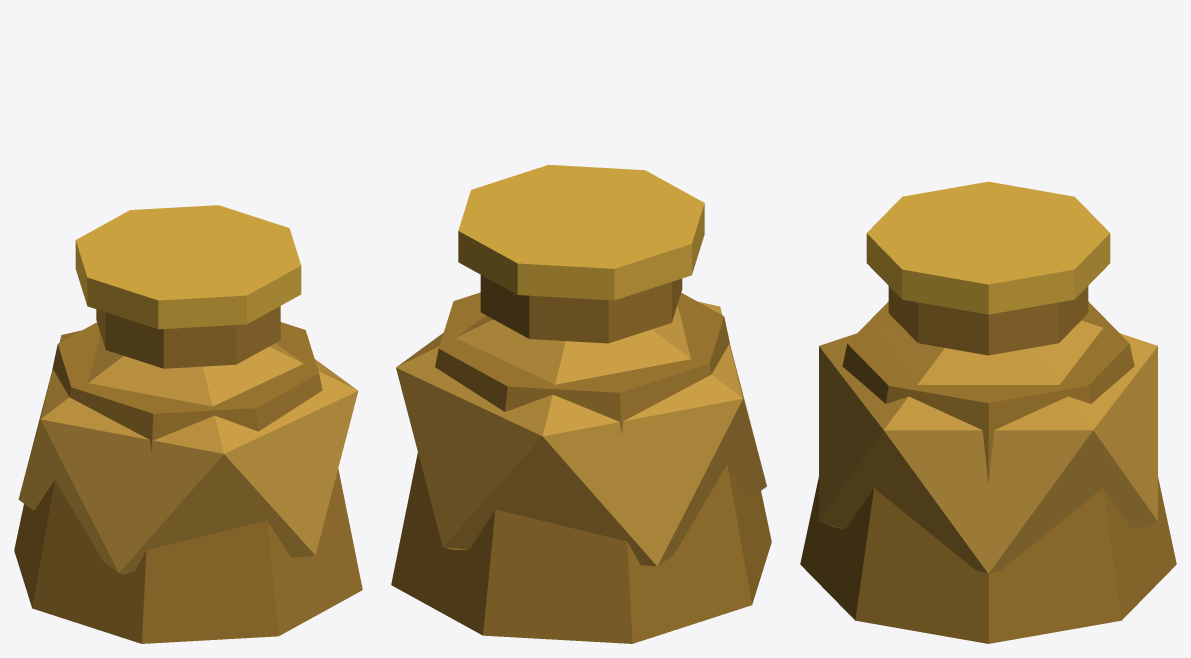
File: WP_EvoFirePot.fbx
3 views of the same model, side by side, from view 1: azimuth 30°, elevation 25°; view 2: azimuth 150°, elevation 25°; view 3: azimuth 270°, elevation 25° (orthographic). The views are drawn at different scales.
Parts seen in each view (by area): view 1: WP_EvoFirePot_Mesh; view 2: WP_EvoFirePot_Mesh; view 3: WP_EvoFirePot_Mesh.
Part boxes in pixels (box(x1,y1,x2,y2)): WP_EvoFirePot_Mesh: box(14, 205, 362, 643); WP_EvoFirePot_Mesh: box(391, 164, 771, 643); WP_EvoFirePot_Mesh: box(800, 181, 1176, 643).
Bounding box in the file's own units: 0.34 × 0.34 × 0.5623.
